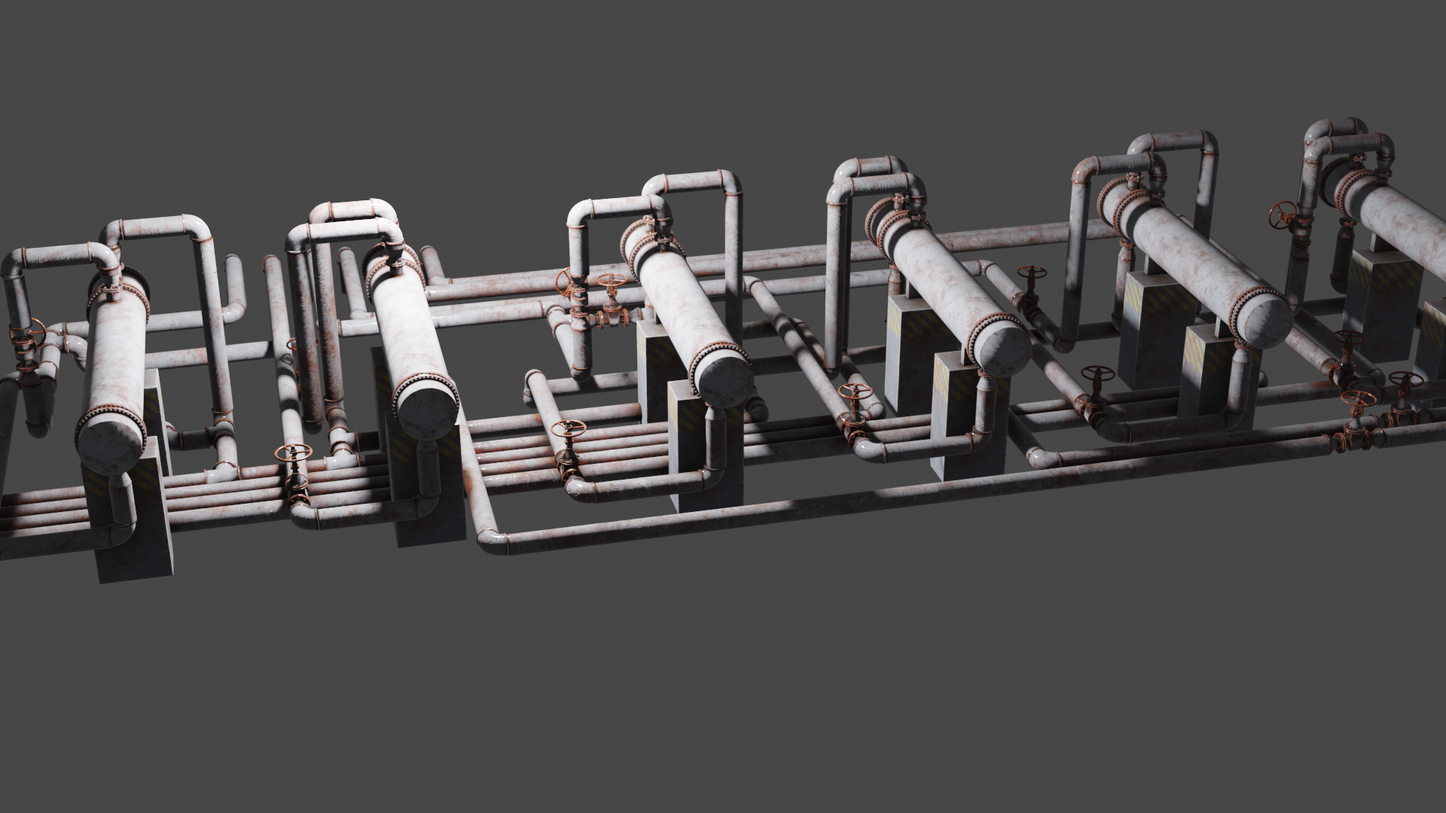HE_1: (1322, 156, 1446, 279)
HE_2: (1089, 181, 1294, 348)
HE_3: (867, 198, 1030, 372)
HE_4: (616, 219, 755, 408)
HE_5: (366, 240, 459, 443)
HE_6: (76, 265, 149, 481)
